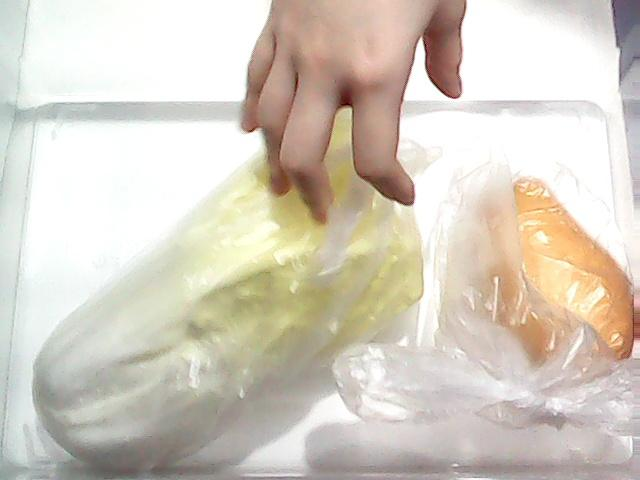mango: (440, 166, 634, 404)
napa cabbage: (31, 98, 426, 470)
